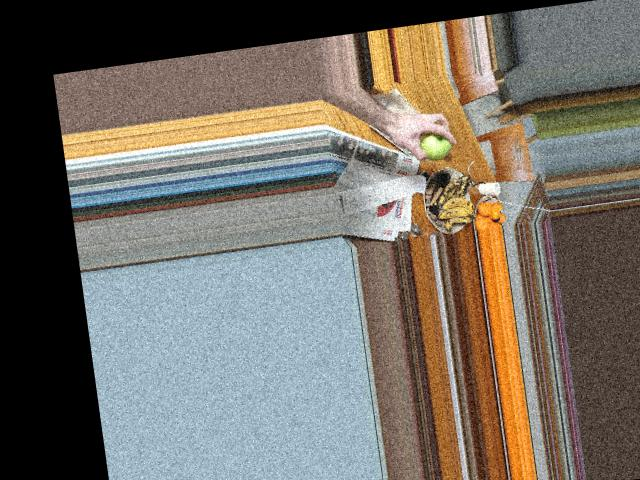apple: (417, 127, 456, 163)
